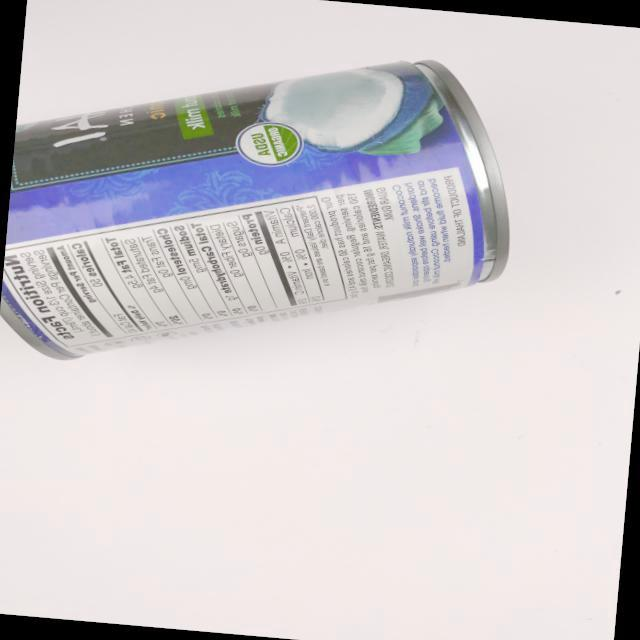metal: (0, 20, 544, 410)
